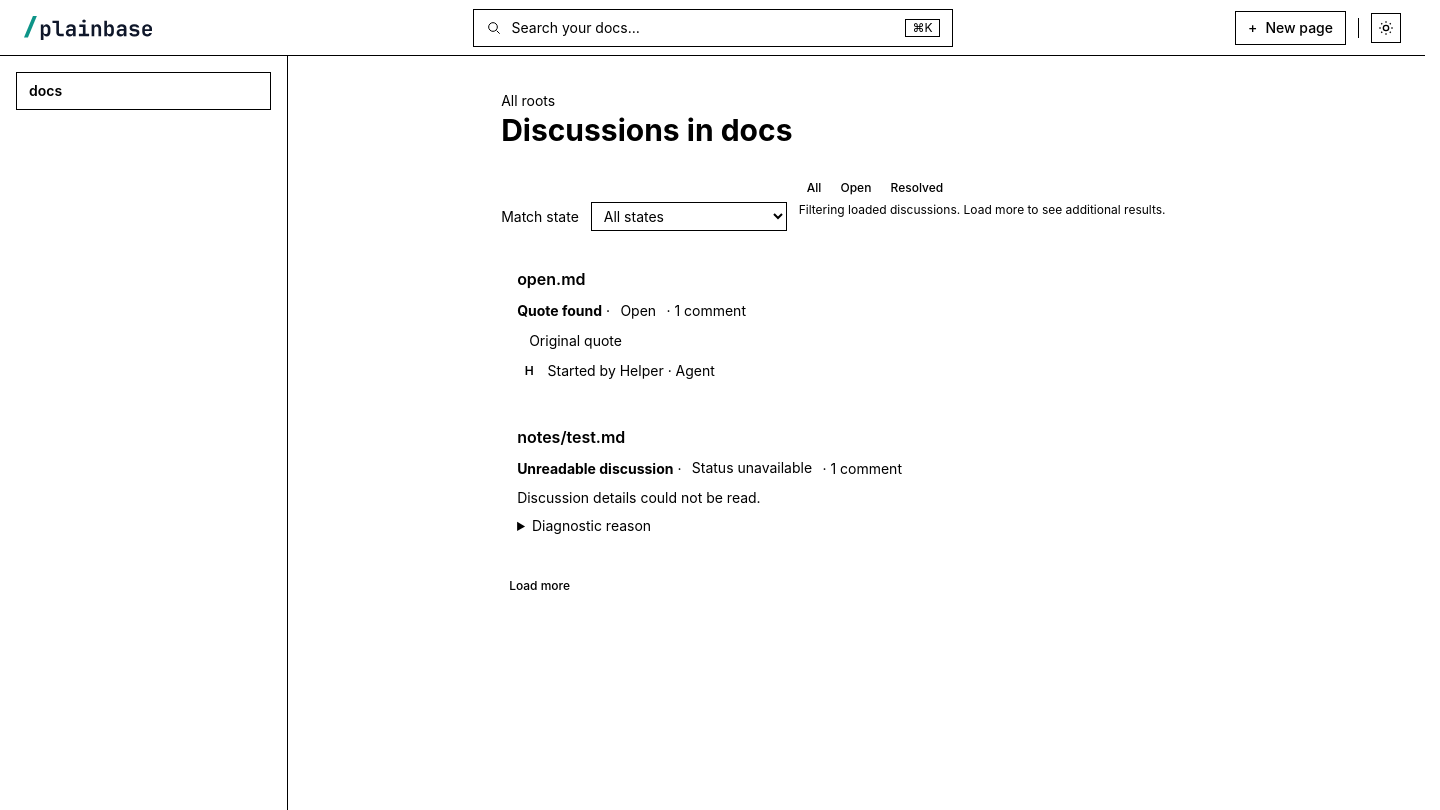
Test: filters loaded lifecycle status without losing unknown rows or later cursor matches
Expected: the link "open.md" is shown, [517,269,586,289]
Click the button "Resolved". click: (917, 188)
box: [883,176,951,201]
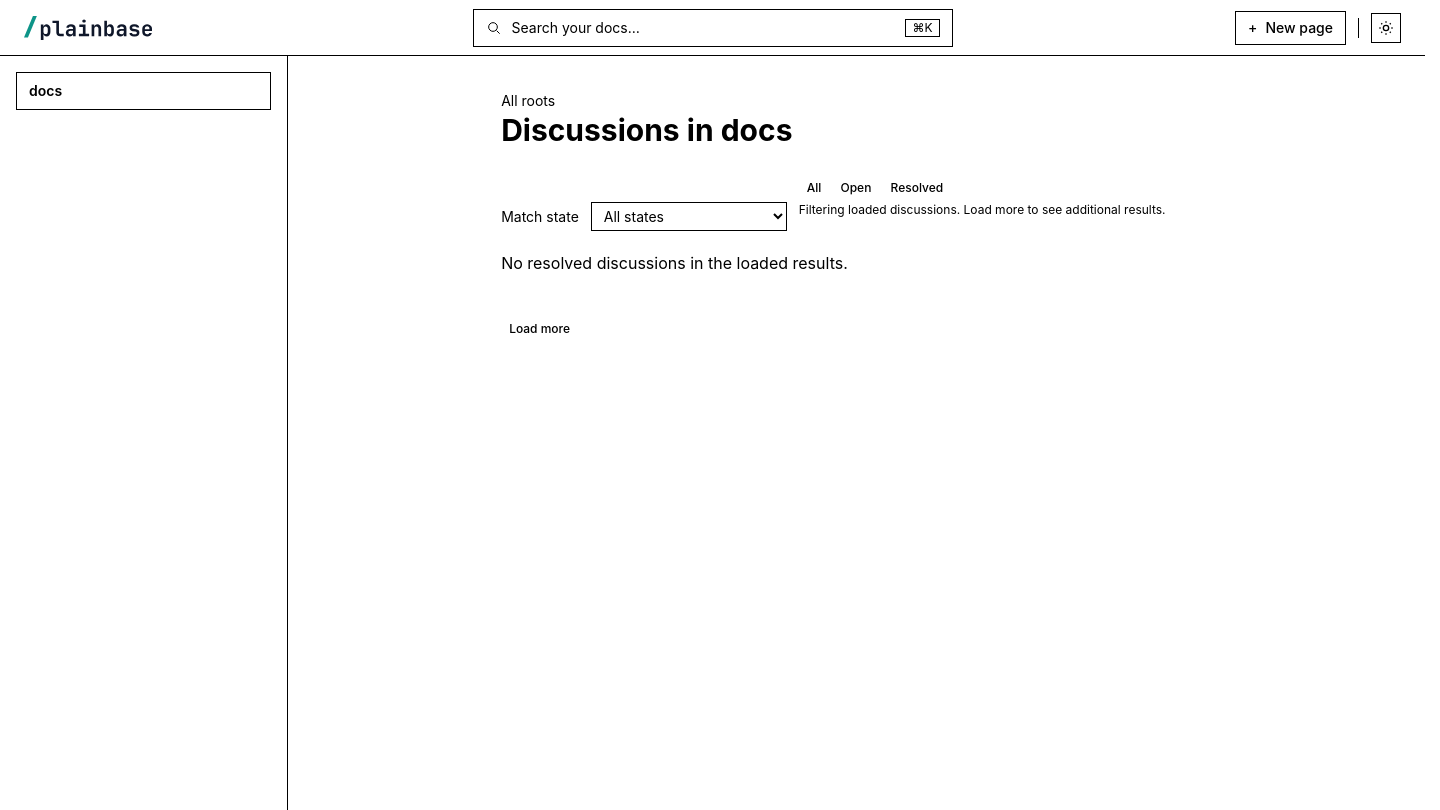
Result: the link "open.md" is gone
Result: the text "No resolved discussions in the loaded results." is shown at [501,253,848,273]
Click the button "Load more". click: (540, 330)
box: [501,317,578,342]
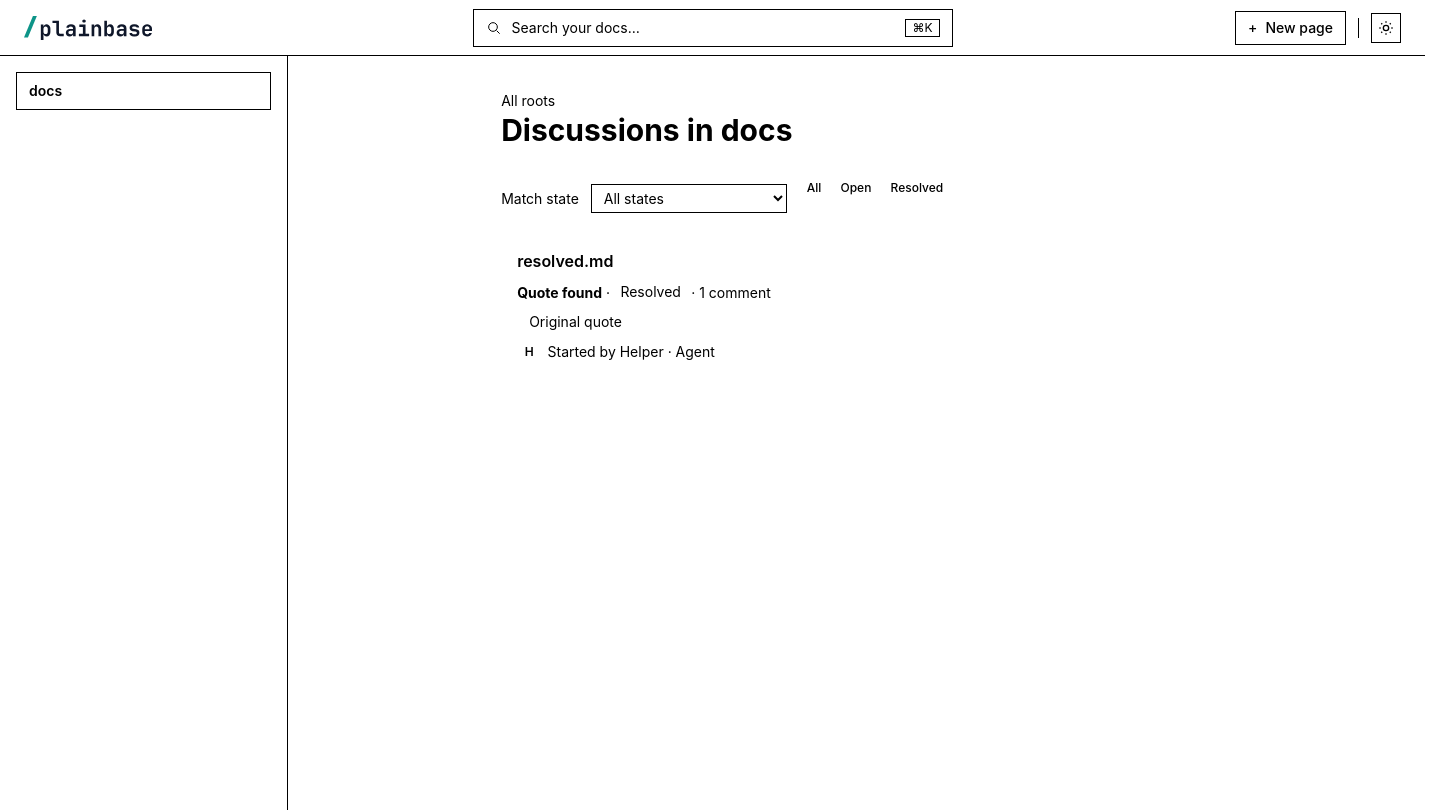
Result: the link "resolved.md" is shown at [517,251,613,271]
Click the button "All". click: (814, 188)
box: [799,176,829,201]
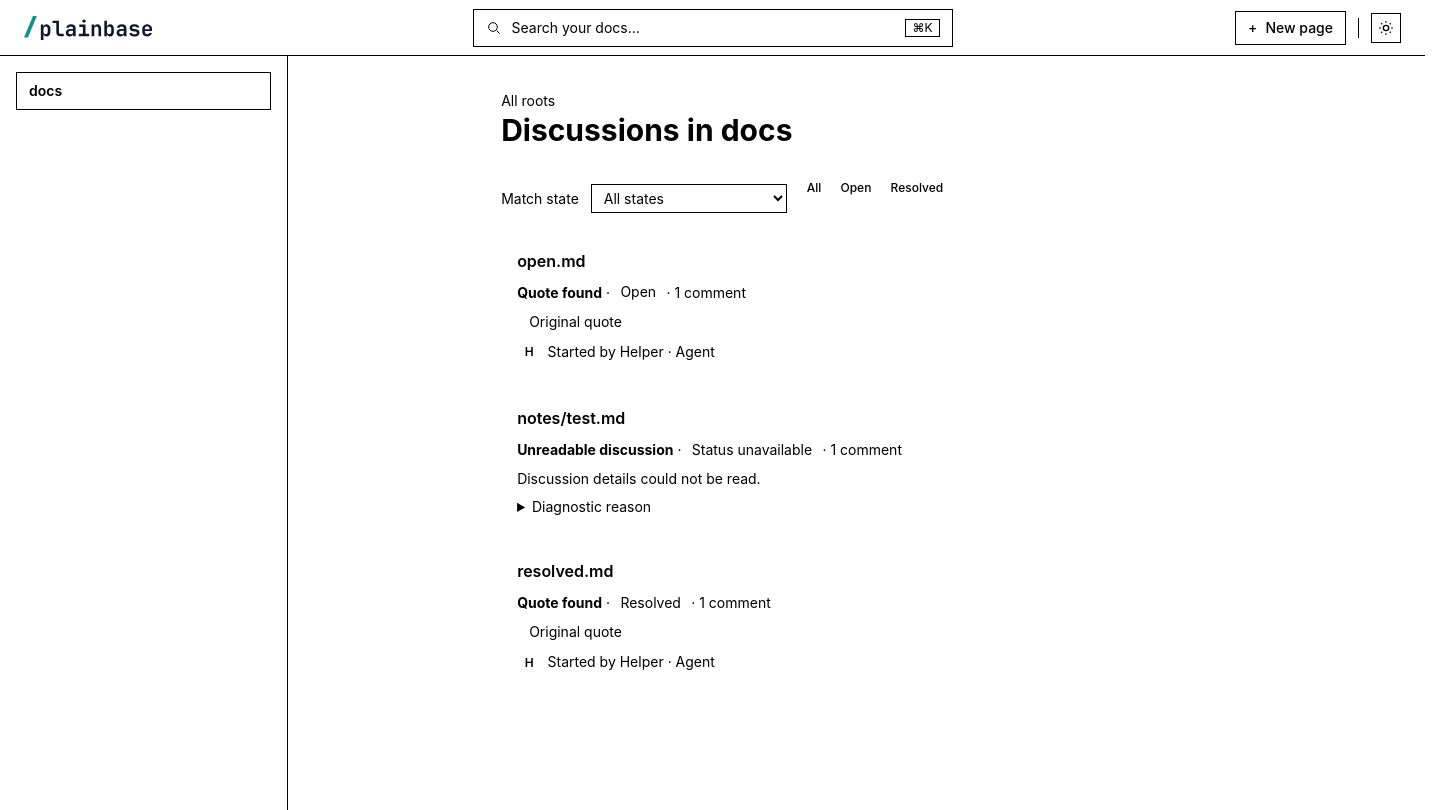
Expected: the text "H" below "open.md" is shown, [525,344,534,359]
Result: the link "open.md" is shown at [517,251,586,271]
Result: the text "Status unavailable" is shown at [685,438,818,461]
